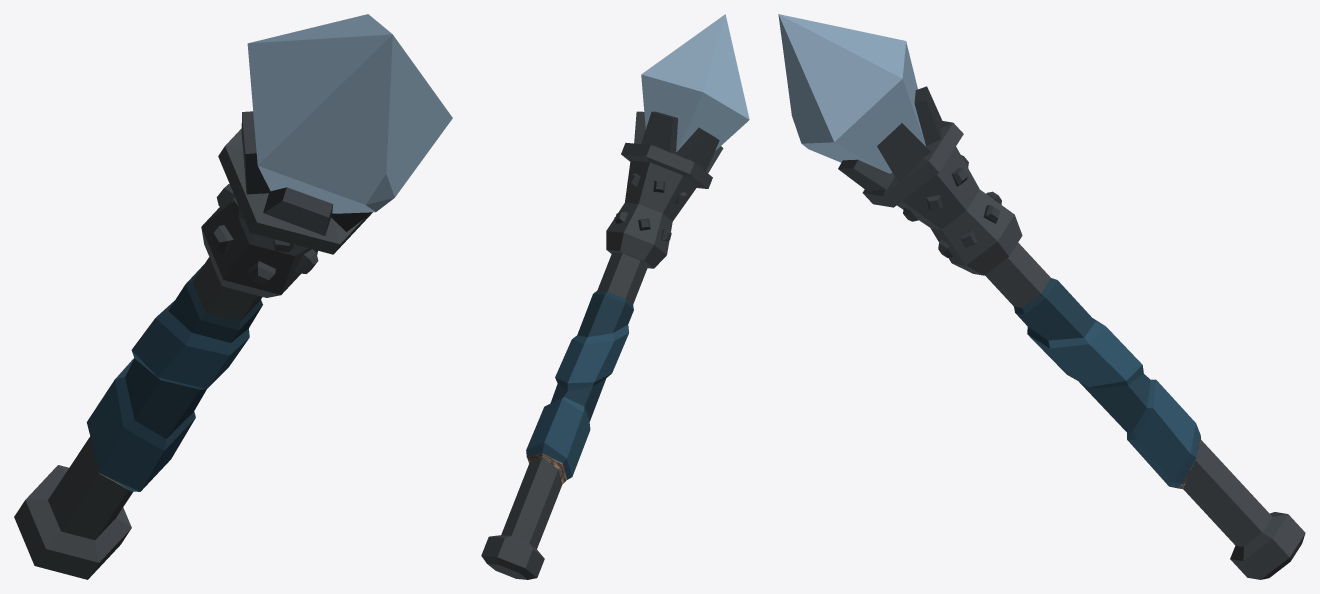
Rendered from fk-sceptre-10.glb.
The picture shows the model from 3 angles, left to right: view 1: azimuth 30°, elevation 25°; view 2: azimuth 150°, elevation 25°; view 3: azimuth 270°, elevation 25°; orthographic projection. The views are drawn at different scales.
Visible parts, largest first — view 1: fk-sceptre-10; view 2: fk-sceptre-10; view 3: fk-sceptre-10.
Part boxes in pixels (box(x1,y1,x2,y2)): fk-sceptre-10: box(14, 14, 452, 579); fk-sceptre-10: box(481, 14, 749, 579); fk-sceptre-10: box(778, 14, 1305, 579).
Size of the model in its own units: 0.1183 by 0.4764 by 0.4131.
1 material, 1 textured.
